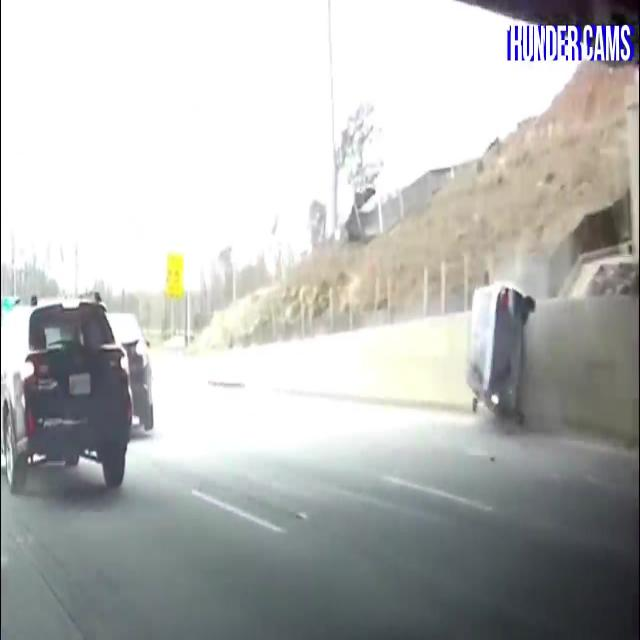accident: (441, 258, 535, 422)
